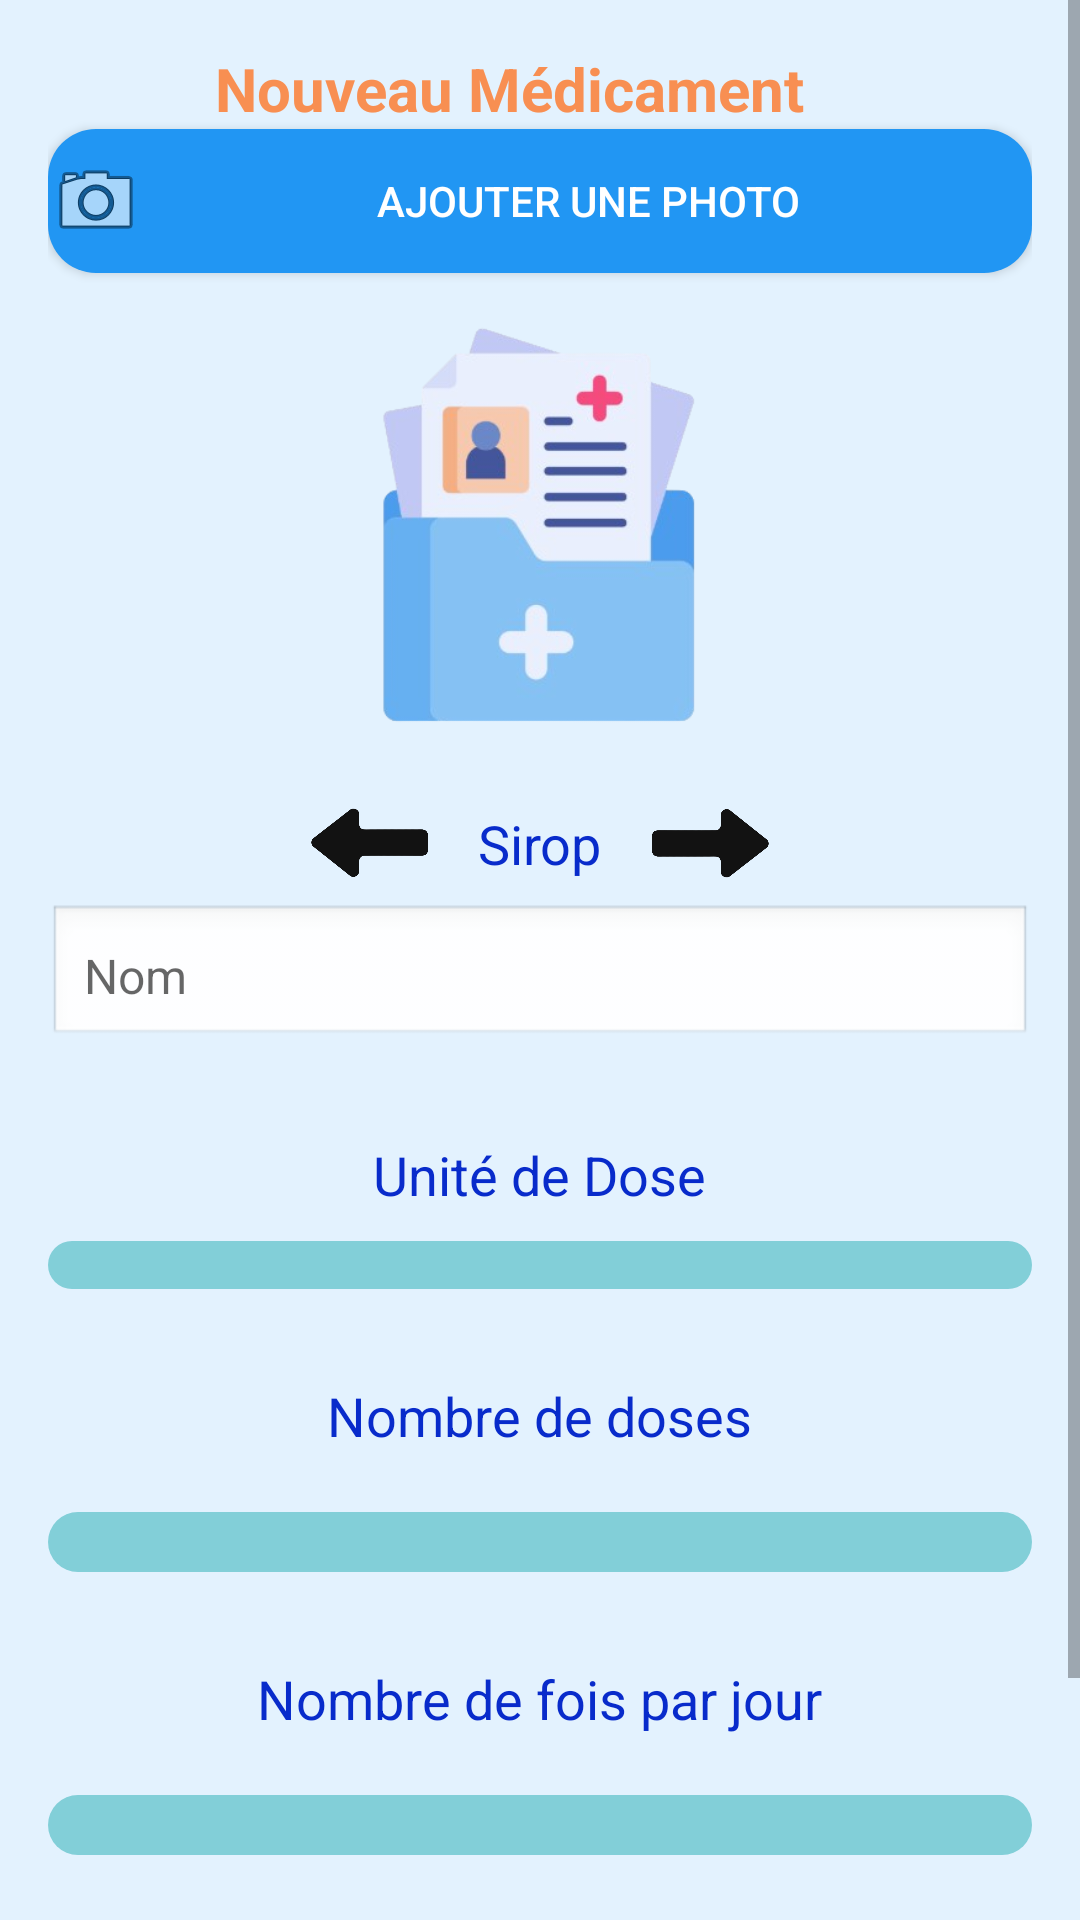

Icons on this 1080*1920 Android screen, each with the point to tap as (x=x, y=y):
droite: (x=710, y=843)
gauche: (x=369, y=842)
